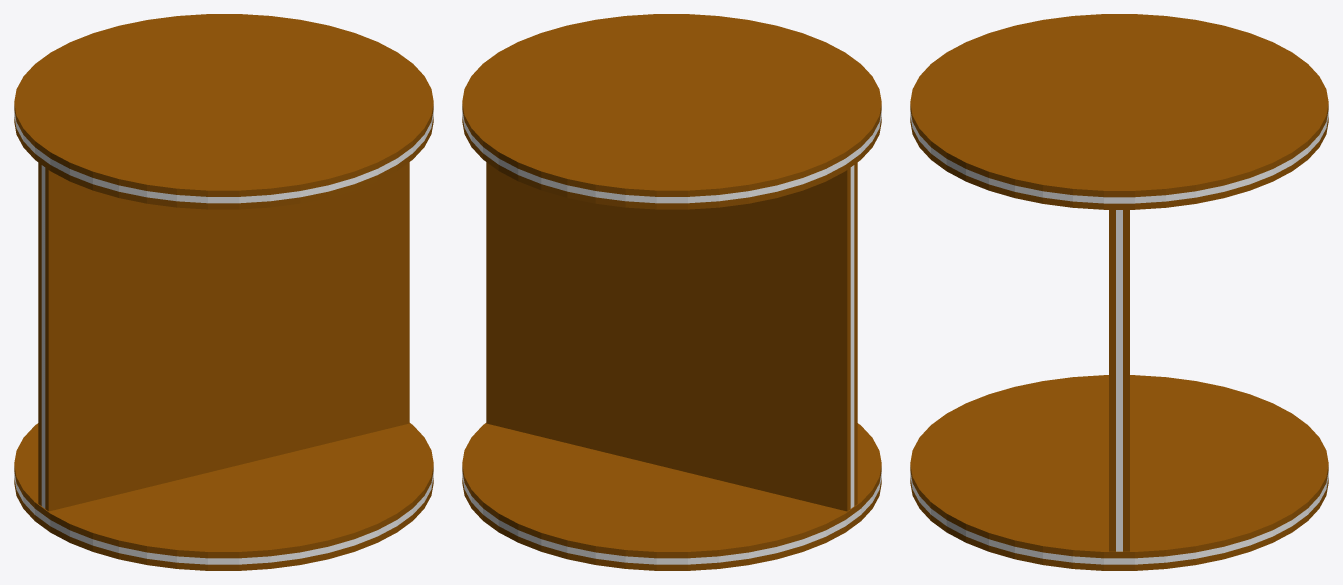
File: valve_4.glb
The picture shows the model from 3 angles, left to right: view 1: azimuth 30°, elevation 25°; view 2: azimuth 150°, elevation 25°; view 3: azimuth 270°, elevation 25°; orthographic projection.
Visible parts, largest first — view 1: Cube.017; view 2: Cube.017; view 3: Cube.017.
Boxes of the visible parts, x1,y1,x2,y2 form: Cube.017: (14, 14, 433, 570); Cube.017: (462, 14, 881, 570); Cube.017: (910, 14, 1328, 570).
Size of the model in its own units: 2 by 2 by 2.
